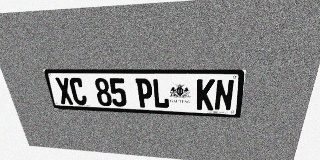5: (109, 78, 127, 107)
8: (94, 78, 113, 106)
C: (68, 78, 88, 105)
K: (196, 79, 215, 110)
L: (152, 78, 169, 109)
N: (214, 79, 235, 111)
P: (135, 78, 153, 108)
X: (54, 77, 74, 105)
